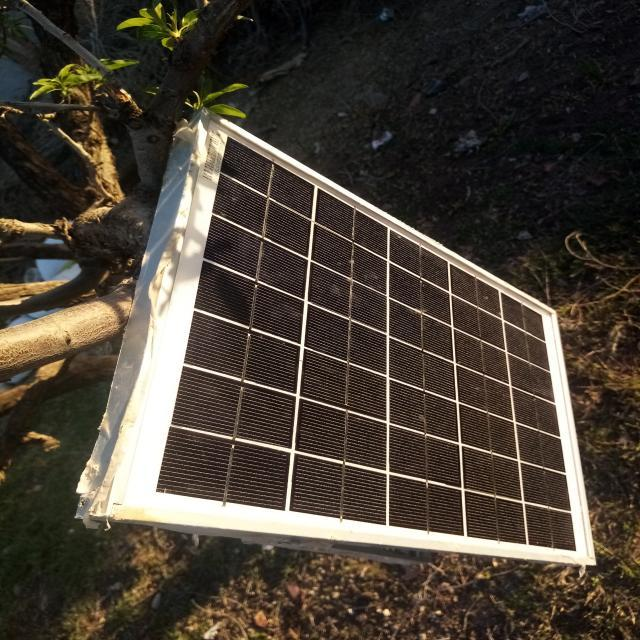no faulty: (109, 115, 593, 554)
